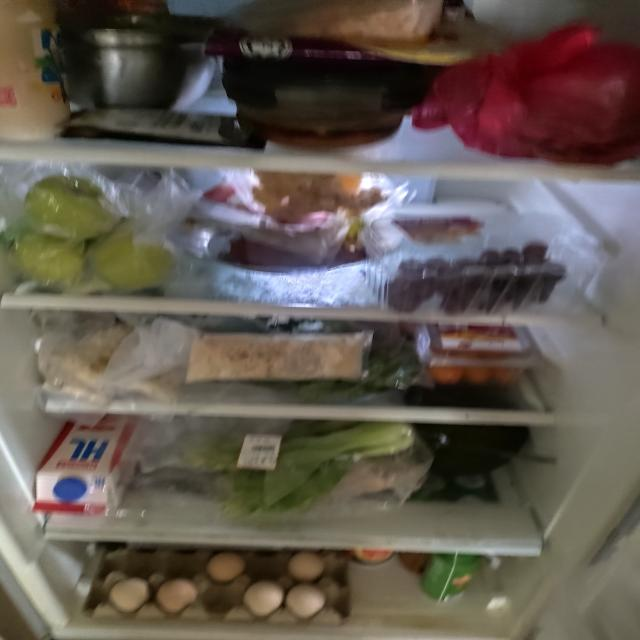apple: (10, 174, 177, 291)
egg: (78, 550, 349, 623)
grape: (380, 240, 568, 314)
pakchoy: (200, 418, 420, 520)
tempeh: (182, 329, 371, 383)
